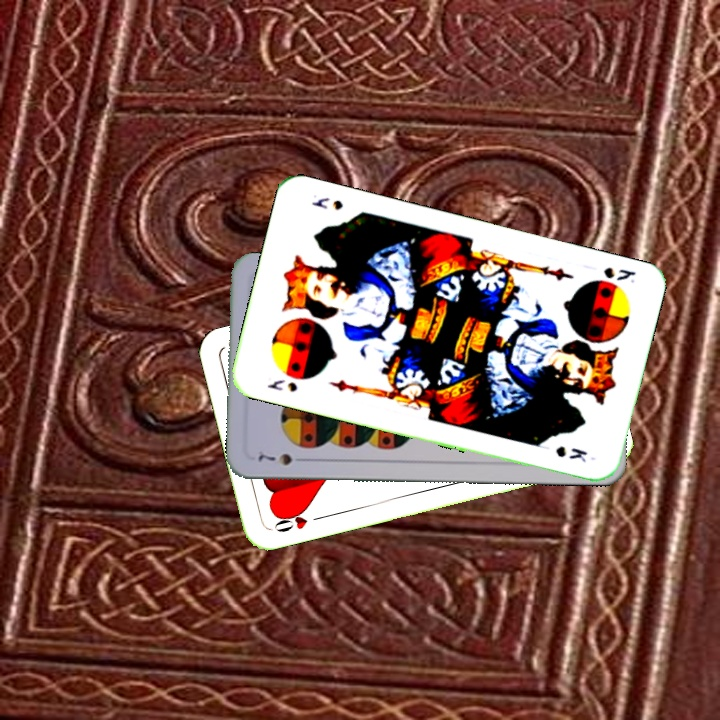HO: (268, 505, 326, 535)
S7: (254, 449, 310, 468)
SK: (599, 263, 638, 286), (263, 375, 300, 395)
